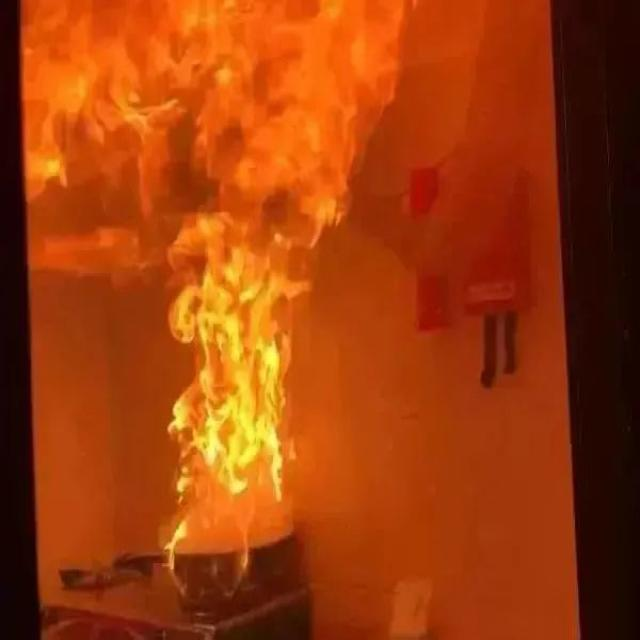Fire: (21, 1, 412, 560)
